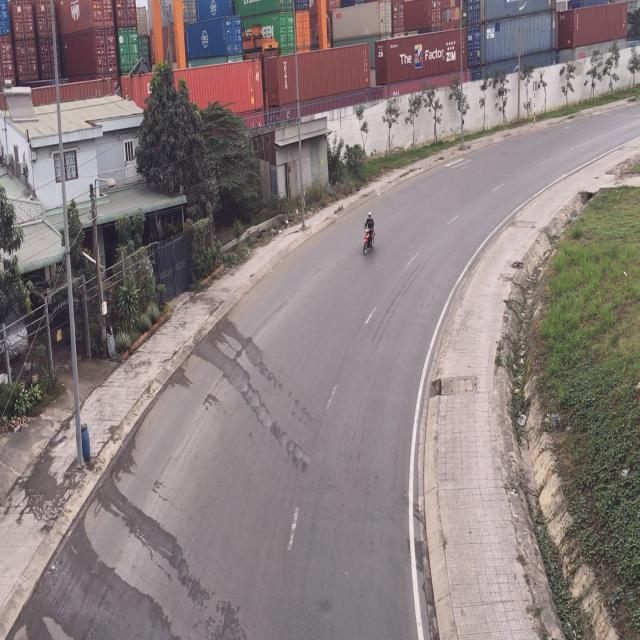motorbike: (360, 210, 376, 258)
